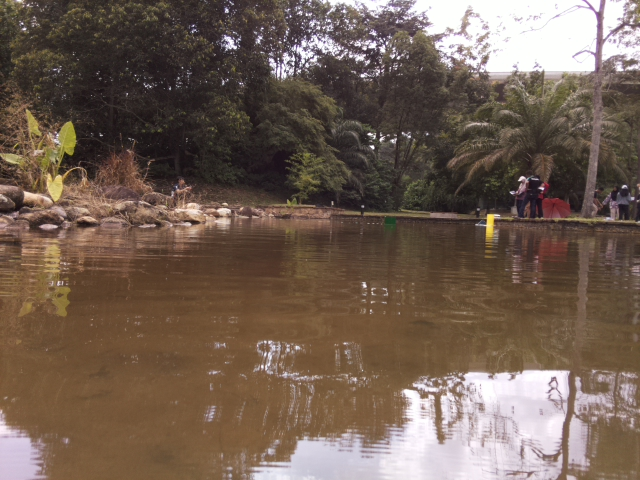obstacle: (384, 215, 398, 225)
